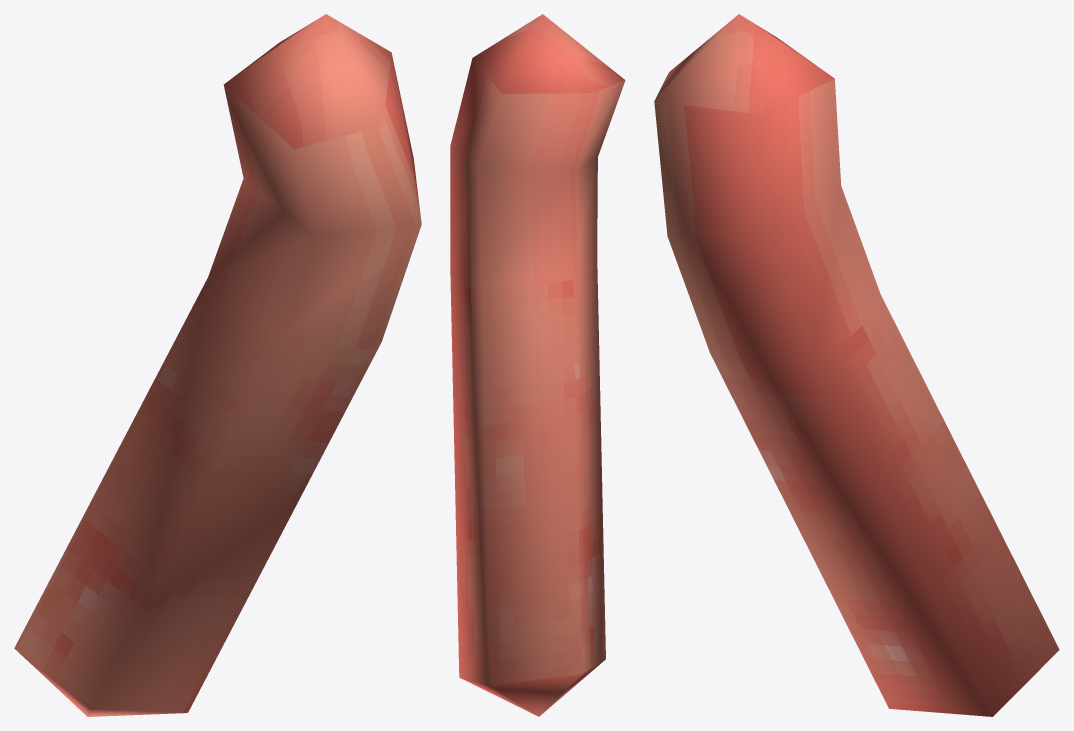
The model's file is H_Sausages.fbx.
3 renders of one model, left to right at view 1: azimuth 30°, elevation 25°; view 2: azimuth 150°, elevation 25°; view 3: azimuth 270°, elevation 25°, orthographic. The views are drawn at different scales.
Parts seen in each view (by area): view 1: HotDog; view 2: HotDog; view 3: HotDog.
Part boxes in pixels (x1=…): HotDog: x1=14, y1=14, x2=421, y2=716; HotDog: x1=450, y1=14, x2=625, y2=716; HotDog: x1=654, y1=14, x2=1059, y2=716.
Bounding box in the file's own units: 12.73 × 32.97 × 16.22.
